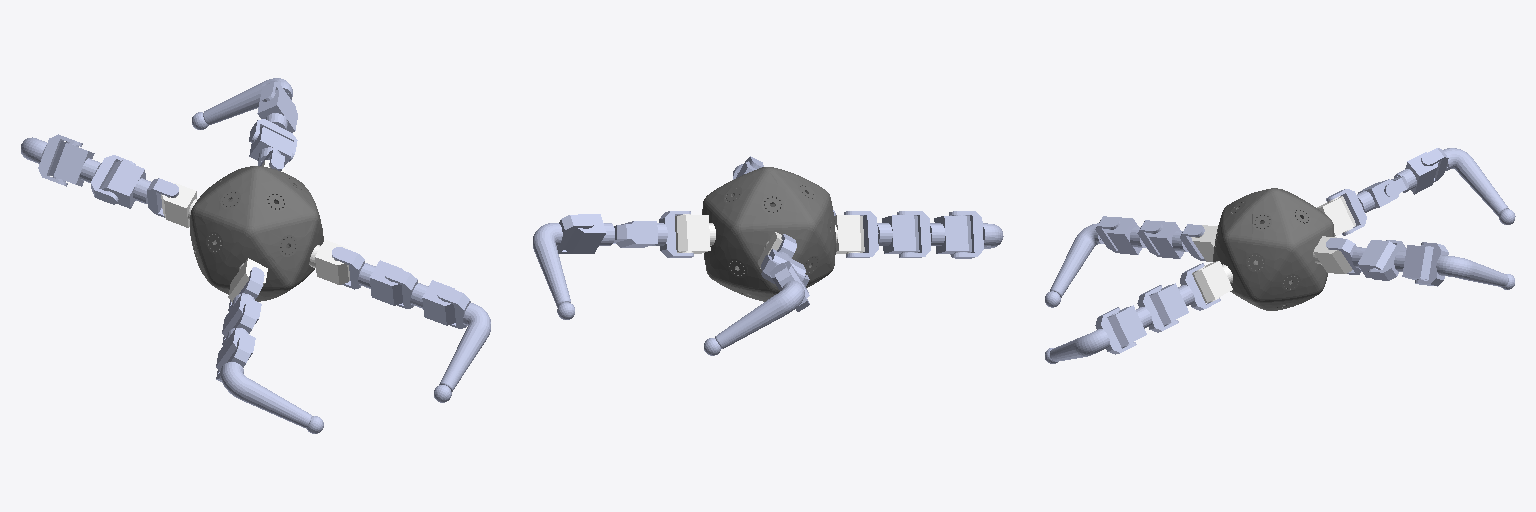
The robot description file, URDF, robot "mod_test":
<?xml version="1.0" encoding="utf-8"?>
<robot
  name="mod_test">
  <link
    name="base_link">
    <inertial>
      <origin
        xyz="-1.5226495220944E-06 1.5812928362389E-07 -5.05247252856584E-07"
        rpy="0 0 0" />
      <mass
        value="0.422806992949252" />
      <inertia
        ixx="0.00237499139253511"
        ixy="1.5717831530364E-08"
        ixz="1.49286265366169E-08"
        iyy="0.00237502154661776"
        iyz="-2.02154172619351E-08"
        izz="0.00237502595466009" />
    </inertial>
    <visual>
      <origin
        xyz="0 0 0"
        rpy="0 0 0" />
      <geometry>
        <mesh
          filename="package://meshes/base_link.STL" />
      </geometry>
      <material
        name="">
        <color
          rgba="0.498039215686275 0.498039215686275 0.498039215686275 1" />
      </material>
    </visual>
    <collision>
      <origin
        xyz="0 0 0"
        rpy="0 0 0" />
      <geometry>
        <mesh
          filename="package://meshes/base_link.STL" />
      </geometry>
    </collision>
  </link>
  <link
   name="70">
   <inertial>
      <origin
        xyz="0 0 0.028508"
        rpy="0 0 0" />
      <mass
        value="0.076173" />
      <inertia
        ixx="3.054E-05"
        ixy="-0.000000"
        ixz="-0.000000"
        iyy="2.1077E-05"
        iyz="-0.000000"
        izz="2.1165E-05" />
    </inertial>
    <visual>
      <origin
        xyz="0 0 0"
        rpy="0 0 0" />
      <geometry>
        <mesh
          filename="package://meshes/1.STL" />
      </geometry>
      <material
        name="">
        <color
          rgba="1 1 1 1" />
      </material>
    </visual>
    <collision>
      <origin
        xyz="0 0 0"
        rpy="0 0 0" />
      <geometry>
        <mesh
          filename="package://meshes/1.STL" />
      </geometry>
    </collision>
  </link>
  <joint
    name="body_70"
    type="fixed">
    <origin
        xyz="0.051620 0.071049 0.016769"
        rpy="-1.353788 0.513383 -0.520455" />
    <parent
      link="base_link" />
    <child
      link="70" />
    <axis
      xyz="0 0 0" />
  </joint>
  <link
    name="71">
    <inertial>
      <origin
        xyz="0.060018 -1.4108E-06 1.4108E-06"
        rpy="0 0 0" />
    <mass
        value="0.10689" />
      <inertia
        ixx="3.2684e-05"
        ixy="-2.5662e-09"
        ixz="2.5662e-09"
        iyy="8.4132e-05"
        iyz="-2.1275e-13"
        izz="8.4583e-05" />
    </inertial>
    <visual>
      <origin
        xyz="0 0 0"
        rpy="0 0 0" />
      <geometry>
        <mesh
          filename="package://meshes/module3.STL" />
      </geometry>
      <material
        name="">
        <color
          rgba="0.79216 0.81961 0.93333 1" />
      </material>
    </visual>
    <collision>
      <origin
        xyz="0 0 0"
        rpy="0 0 0" />
      <geometry>
        <mesh
          filename="package://meshes/module3.STL" />
      </geometry>
    </collision>
  </link>
  <joint
    name="70_71"
    type="revolute">
    <origin
      xyz="0 0 0.04"
      rpy="-1.558 -1.5708 -0.012835" />
    <parent
      link="70" />
    <child
      link="71" />
    <axis
      xyz="0 0 1" />
    <limit
      lower="-6.28"
      upper="6.28"
      effort="10"
      velocity="100" />
  </joint>
  <link
    name="72">
    <inertial>
      <origin
        xyz="0.060018 -1.4108E-06 1.4108E-06"
        rpy="0 0 0" />
    <mass
        value="0.10689" />
      <inertia
        ixx="3.2684e-05"
        ixy="-2.5662e-09"
        ixz="2.5662e-09"
        iyy="9.1229e-05"
        iyz="4.0975e-06"
        izz="7.7485e-05" />
    </inertial>
    <visual>
      <origin
        xyz="0 0 0"
        rpy="0 0 0" />
      <geometry>
        <mesh
          filename="package://meshes/module7.STL" />
      </geometry>
      <material
        name="">
        <color
          rgba="0.79216 0.81961 0.93333 1" />
      </material>
    </visual>
    <collision>
      <origin
        xyz="0 0 0"
        rpy="0 0 0" />
      <geometry>
        <mesh
          filename="package://meshes/module7.STL" />
      </geometry>
    </collision>
  </link>
  <joint
    name="71_72"
    type="revolute">
    <origin
      xyz="0.0816 0 0"
      rpy="1.570796 0 0" />
    <parent
      link="71" />
    <child
      link="72" />
    <axis
      xyz="0 0 1" />
    <limit
      lower="-6.28"
      upper="6.28"
      effort="10"
      velocity="100" />
  </joint>
  <link
    name="73">
    <inertial>
      <origin
        xyz="0.051733 -0.042281 -1.3878E-17"
        rpy="0 0 0" />
    <mass
        value="0.12059" />
      <inertia
        ixx="0.00025425"
        ixy="4.8319E-05"
        ixz="0"
        iyy="5.0194E-05"
        iyz="-3.3141E-21"
        izz="0.00027482" />
    </inertial>
    <visual>
      <origin
        xyz="0 0 0"
        rpy="0 0 0" />
      <geometry>
        <mesh
          filename="package://meshes/leg.STL" />
      </geometry>
      <material
        name="">
        <color
          rgba="0.79216 0.81961 0.93333 1" />
      </material>
    </visual>
    <collision>
      <origin
        xyz="0 0 0"
        rpy="0 0 0" />
      <geometry>
        <mesh
          filename="package://meshes/leg.STL" />
      </geometry>
    </collision>
  </link>
  <joint
    name="72_73"
    type="revolute">
    <origin
      xyz="0.0816 0 0"
      rpy="3.665191 0 0" />
    <parent
      link="72" />
    <child
      link="73" />
    <axis
      xyz="0 0 1" />
    <limit
      lower="-6.28"
      upper="6.28"
      effort="10"
      velocity="100" />
  </joint>
  <link
   name="100">
   <inertial>
      <origin
        xyz="0 0 0.028508"
        rpy="0 0 0" />
      <mass
        value="0.076173" />
      <inertia
        ixx="3.054E-05"
        ixy="0.000000"
        ixz="-0.000000"
        iyy="2.1077E-05"
        iyz="0.000021"
        izz="2.1165E-05" />
    </inertial>
    <visual>
      <origin
        xyz="0 0 0"
        rpy="0 0 0" />
      <geometry>
        <mesh
          filename="package://meshes/1.STL" />
      </geometry>
      <material
        name="">
        <color
          rgba="1 1 1 1" />
      </material>
    </visual>
    <collision>
      <origin
        xyz="0 0 0"
        rpy="0 0 0" />
      <geometry>
        <mesh
          filename="package://meshes/1.STL" />
      </geometry>
    </collision>
  </link>
  <joint
    name="body_100"
    type="fixed">
    <origin
        xyz="0.051620 -0.071049 -0.016769"
        rpy="1.787804 -0.513383 0.520455" />
    <parent
      link="base_link" />
    <child
      link="100" />
    <axis
      xyz="0 0 0" />
  </joint>
  <link
    name="101">
    <inertial>
      <origin
        xyz="0.060018 -1.4108E-06 1.4108E-06"
        rpy="0 0 0" />
    <mass
        value="0.10689" />
      <inertia
        ixx="3.2684e-05"
        ixy="-2.5662e-09"
        ixz="2.5662e-09"
        iyy="9.3595e-05"
        iyz="-2.1275e-13"
        izz="7.512e-05" />
    </inertial>
    <visual>
      <origin
        xyz="0 0 0"
        rpy="0 0 0" />
      <geometry>
        <mesh
          filename="package://meshes/module6.STL" />
      </geometry>
      <material
        name="">
        <color
          rgba="0.79216 0.81961 0.93333 1" />
      </material>
    </visual>
    <collision>
      <origin
        xyz="0 0 0"
        rpy="0 0 0" />
      <geometry>
        <mesh
          filename="package://meshes/module6.STL" />
      </geometry>
    </collision>
  </link>
  <joint
    name="100_101"
    type="revolute">
    <origin
      xyz="0 0 0.04"
      rpy="-1.558 -1.5708 -0.012835" />
    <parent
      link="100" />
    <child
      link="101" />
    <axis
      xyz="0 0 1" />
    <limit
      lower="-6.28"
      upper="6.28"
      effort="10"
      velocity="100" />
  </joint>
  <link
    name="102">
    <inertial>
      <origin
        xyz="0.060018 -1.4108E-06 1.4108E-06"
        rpy="0 0 0" />
    <mass
        value="0.10689" />
      <inertia
        ixx="3.2684e-05"
        ixy="-2.5662e-09"
        ixz="2.5662e-09"
        iyy="9.3595e-05"
        iyz="-2.1275e-13"
        izz="7.512e-05" />
    </inertial>
    <visual>
      <origin
        xyz="0 0 0"
        rpy="0 0 0" />
      <geometry>
        <mesh
          filename="package://meshes/module6.STL" />
      </geometry>
      <material
        name="">
        <color
          rgba="0.79216 0.81961 0.93333 1" />
      </material>
    </visual>
    <collision>
      <origin
        xyz="0 0 0"
        rpy="0 0 0" />
      <geometry>
        <mesh
          filename="package://meshes/module6.STL" />
      </geometry>
    </collision>
  </link>
  <joint
    name="101_102"
    type="revolute">
    <origin
      xyz="0.0816 0 0"
      rpy="3.141593 0 0" />
    <parent
      link="101" />
    <child
      link="102" />
    <axis
      xyz="0 0 1" />
    <limit
      lower="-6.28"
      upper="6.28"
      effort="10"
      velocity="100" />
  </joint>
  <link
    name="103">
    <inertial>
      <origin
        xyz="0.051733 -0.042281 -1.3878E-17"
        rpy="0 0 0" />
    <mass
        value="0.12059" />
      <inertia
        ixx="0.00025425"
        ixy="4.8319E-05"
        ixz="0"
        iyy="5.0194E-05"
        iyz="-3.3141E-21"
        izz="0.00027482" />
    </inertial>
    <visual>
      <origin
        xyz="0 0 0"
        rpy="0 0 0" />
      <geometry>
        <mesh
          filename="package://meshes/leg.STL" />
      </geometry>
      <material
        name="">
        <color
          rgba="0.79216 0.81961 0.93333 1" />
      </material>
    </visual>
    <collision>
      <origin
        xyz="0 0 0"
        rpy="0 0 0" />
      <geometry>
        <mesh
          filename="package://meshes/leg.STL" />
      </geometry>
    </collision>
  </link>
  <joint
    name="102_103"
    type="revolute">
    <origin
      xyz="0.0816 0 0"
      rpy="3.141593 0 0" />
    <parent
      link="102" />
    <child
      link="103" />
    <axis
      xyz="0 0 1" />
    <limit
      lower="-6.28"
      upper="6.28"
      effort="10"
      velocity="100" />
  </joint>
  <link
   name="140">
   <inertial>
      <origin
        xyz="0 0 0.028508"
        rpy="0 0 0" />
      <mass
        value="0.076173" />
      <inertia
        ixx="3.054E-05"
        ixy="0.000000"
        ixz="-0.000000"
        iyy="2.1077E-05"
        iyz="-0.000000"
        izz="2.1165E-05" />
    </inertial>
    <visual>
      <origin
        xyz="0 0 0"
        rpy="0 0 0" />
      <geometry>
        <mesh
          filename="package://meshes/1.STL" />
      </geometry>
      <material
        name="">
        <color
          rgba="1 1 1 1" />
      </material>
    </visual>
    <collision>
      <origin
        xyz="0 0 0"
        rpy="0 0 0" />
      <geometry>
        <mesh
          filename="package://meshes/1.STL" />
      </geometry>
    </collision>
  </link>
  <joint
    name="body_140"
    type="fixed">
    <origin
        xyz="-0.051620 -0.071049 -0.016769"
        rpy="-1.787804 -0.513383 2.621137" />
    <parent
      link="base_link" />
    <child
      link="140" />
    <axis
      xyz="0 0 0" />
  </joint>
  <link
    name="141">
    <inertial>
      <origin
        xyz="0.060018 -1.4108E-06 1.4108E-06"
        rpy="0 0 0" />
    <mass
        value="0.10689" />
      <inertia
        ixx="3.2684e-05"
        ixy="-2.5662e-09"
        ixz="2.5662e-09"
        iyy="9.3595e-05"
        iyz="-2.1275e-13"
        izz="7.512e-05" />
    </inertial>
    <visual>
      <origin
        xyz="0 0 0"
        rpy="0 0 0" />
      <geometry>
        <mesh
          filename="package://meshes/module6.STL" />
      </geometry>
      <material
        name="">
        <color
          rgba="0.79216 0.81961 0.93333 1" />
      </material>
    </visual>
    <collision>
      <origin
        xyz="0 0 0"
        rpy="0 0 0" />
      <geometry>
        <mesh
          filename="package://meshes/module6.STL" />
      </geometry>
    </collision>
  </link>
  <joint
    name="140_141"
    type="revolute">
    <origin
      xyz="0 0 0.04"
      rpy="-1.558 -1.5708 -0.012835" />
    <parent
      link="140" />
    <child
      link="141" />
    <axis
      xyz="0 0 1" />
    <limit
      lower="-6.28"
      upper="6.28"
      effort="10"
      velocity="100" />
  </joint>
  <link
    name="142">
    <inertial>
      <origin
        xyz="0.060018 -1.4108E-06 1.4108E-06"
        rpy="0 0 0" />
    <mass
        value="0.10689" />
      <inertia
        ixx="3.2684e-05"
        ixy="-2.5662e-09"
        ixz="2.5662e-09"
        iyy="9.3595e-05"
        iyz="-2.1275e-13"
        izz="7.512e-05" />
    </inertial>
    <visual>
      <origin
        xyz="0 0 0"
        rpy="0 0 0" />
      <geometry>
        <mesh
          filename="package://meshes/module6.STL" />
      </geometry>
      <material
        name="">
        <color
          rgba="0.79216 0.81961 0.93333 1" />
      </material>
    </visual>
    <collision>
      <origin
        xyz="0 0 0"
        rpy="0 0 0" />
      <geometry>
        <mesh
          filename="package://meshes/module6.STL" />
      </geometry>
    </collision>
  </link>
  <joint
    name="141_142"
    type="revolute">
    <origin
      xyz="0.0816 0 0"
      rpy="3.141593 0 0" />
    <parent
      link="141" />
    <child
      link="142" />
    <axis
      xyz="0 0 1" />
    <limit
      lower="-6.28"
      upper="6.28"
      effort="10"
      velocity="100" />
  </joint>
  <link
    name="143">
    <inertial>
      <origin
        xyz="0.051733 -0.042281 -1.3878E-17"
        rpy="0 0 0" />
    <mass
        value="0.12059" />
      <inertia
        ixx="0.00025425"
        ixy="4.8319E-05"
        ixz="0"
        iyy="5.0194E-05"
        iyz="-3.3141E-21"
        izz="0.00027482" />
    </inertial>
    <visual>
      <origin
        xyz="0 0 0"
        rpy="0 0 0" />
      <geometry>
        <mesh
          filename="package://meshes/leg.STL" />
      </geometry>
      <material
        name="">
        <color
          rgba="0.79216 0.81961 0.93333 1" />
      </material>
    </visual>
    <collision>
      <origin
        xyz="0 0 0"
        rpy="0 0 0" />
      <geometry>
        <mesh
          filename="package://meshes/leg.STL" />
      </geometry>
    </collision>
  </link>
  <joint
    name="142_143"
    type="revolute">
    <origin
      xyz="0.0816 0 0"
      rpy="3.141593 0 0" />
    <parent
      link="142" />
    <child
      link="143" />
    <axis
      xyz="0 0 1" />
    <limit
      lower="-6.28"
      upper="6.28"
      effort="10"
      velocity="100" />
  </joint>
  <link
   name="80">
   <inertial>
      <origin
        xyz="0 0 0.028508"
        rpy="0 0 0" />
      <mass
        value="0.076173" />
      <inertia
        ixx="3.054E-05"
        ixy="0.000000"
        ixz="-0.000000"
        iyy="2.1077E-05"
        iyz="-0.000000"
        izz="2.1165E-05" />
    </inertial>
    <visual>
      <origin
        xyz="0 0 0"
        rpy="0 0 0" />
      <geometry>
        <mesh
          filename="package://meshes/1.STL" />
      </geometry>
      <material
        name="">
        <color
          rgba="1 1 1 1" />
      </material>
    </visual>
    <collision>
      <origin
        xyz="0 0 0"
        rpy="0 0 0" />
      <geometry>
        <mesh
          filename="package://meshes/1.STL" />
      </geometry>
    </collision>
  </link>
  <joint
    name="body_80"
    type="fixed">
    <origin
        xyz="-0.051620 0.071049 0.016769"
        rpy="1.353788 0.513383 -2.621137" />
    <parent
      link="base_link" />
    <child
      link="80" />
    <axis
      xyz="0 0 0" />
  </joint>
  <link
    name="81">
    <inertial>
      <origin
        xyz="0.060018 -1.4108E-06 1.4108E-06"
        rpy="0 0 0" />
    <mass
        value="0.10689" />
      <inertia
        ixx="3.2684e-05"
        ixy="-2.5662e-09"
        ixz="2.5662e-09"
        iyy="8.4132e-05"
        iyz="-2.1275e-13"
        izz="8.4583e-05" />
    </inertial>
    <visual>
      <origin
        xyz="0 0 0"
        rpy="0 0 0" />
      <geometry>
        <mesh
          filename="package://meshes/module9.STL" />
      </geometry>
      <material
        name="">
        <color
          rgba="0.79216 0.81961 0.93333 1" />
      </material>
    </visual>
    <collision>
      <origin
        xyz="0 0 0"
        rpy="0 0 0" />
      <geometry>
        <mesh
          filename="package://meshes/module9.STL" />
      </geometry>
    </collision>
  </link>
  <joint
    name="80_81"
    type="revolute">
    <origin
      xyz="0 0 0.04"
      rpy="-1.558 -1.5708 -0.012835" />
    <parent
      link="80" />
    <child
      link="81" />
    <axis
      xyz="0 0 1" />
    <limit
      lower="-6.28"
      upper="6.28"
      effort="10"
      velocity="100" />
  </joint>
  <link
    name="82">
    <inertial>
      <origin
        xyz="0.060018 -1.4108E-06 1.4108E-06"
        rpy="0 0 0" />
    <mass
        value="0.10689" />
      <inertia
        ixx="3.2684e-05"
        ixy="-2.5662e-09"
        ixz="2.5662e-09"
        iyy="9.1229e-05"
        iyz="-4.0975e-06"
        izz="7.7485e-05" />
    </inertial>
    <visual>
      <origin
        xyz="0 0 0"
        rpy="0 0 0" />
      <geometry>
        <mesh
          filename="package://meshes/module5.STL" />
      </geometry>
      <material
        name="">
        <color
          rgba="0.79216 0.81961 0.93333 1" />
      </material>
    </visual>
    <collision>
      <origin
        xyz="0 0 0"
        rpy="0 0 0" />
      <geometry>
        <mesh
          filename="package://meshes/module5.STL" />
      </geometry>
    </collision>
  </link>
  <joint
    name="81_82"
    type="revolute">
    <origin
      xyz="0.0816 0 0"
      rpy="4.712389 0 0" />
    <parent
      link="81" />
    <child
      link="82" />
    <axis
      xyz="0 0 1" />
    <limit
      lower="-6.28"
      upper="6.28"
      effort="10"
      velocity="100" />
  </joint>
  <link
    name="83">
    <inertial>
      <origin
        xyz="0.051733 -0.042281 -1.3878E-17"
        rpy="0 0 0" />
    <mass
        value="0.12059" />
      <inertia
        ixx="0.00025425"
        ixy="4.8319E-05"
        ixz="0"
        iyy="5.0194E-05"
        iyz="-3.3141E-21"
        izz="0.00027482" />
    </inertial>
    <visual>
      <origin
        xyz="0 0 0"
        rpy="0 0 0" />
      <geometry>
        <mesh
          filename="package://meshes/leg.STL" />
      </geometry>
      <material
        name="">
        <color
          rgba="0.79216 0.81961 0.93333 1" />
      </material>
    </visual>
    <collision>
      <origin
        xyz="0 0 0"
        rpy="0 0 0" />
      <geometry>
        <mesh
          filename="package://meshes/leg.STL" />
      </geometry>
    </collision>
  </link>
  <joint
    name="82_83"
    type="revolute">
    <origin
      xyz="0.0816 0 0"
      rpy="2.617994 0 0" />
    <parent
      link="82" />
    <child
      link="83" />
    <axis
      xyz="0 0 1" />
    <limit
      lower="-6.28"
      upper="6.28"
      effort="10"
      velocity="100" />
  </joint>
  <link
    name = "ball_1">
    <inertial>
    <origin
        xyz="0 0 0"
        rpy="0 0 0" />
    <mass
        value="0" />
      <inertia
        ixx="0"
        ixy="0"
        ixz="0"
        iyy="0"
        iyz="0"
        izz="0" />
    </inertial>    <visual>
      <origin
        xyz="0 0 0"
        rpy="0 0 0" />
     <geometry>
        <sphere radius = "0.01"/>
      </geometry>
      <material
        name="green">
        <color
          rgba="0.22 1 0.4 1" />
      </material>
    </visual>
  </link>
  <joint
  name="73_ball1"
  type="fixed">
    <origin
      xyz="0.0612 -0.13431 0"
      rpy="0 0 0" />
    <parent
      link="73" />
    <child
      link="ball_1" />
    <axis
      xyz="0 0 0" />
  </joint>
  <link
    name = "ball_2">
    <inertial>
    <origin
        xyz="0 0 0"
        rpy="0 0 0" />
    <mass
        value="0" />
      <inertia
        ixx="0"
        ixy="0"
        ixz="0"
        iyy="0"
        iyz="0"
        izz="0" />
    </inertial>    <visual>
      <origin
        xyz="0 0 0"
        rpy="0 0 0" />
      <geometry>
        <sphere radius = "0.01"/>
      </geometry>
      <material
        name="blue">
        <color
          rgba="0.16 0.52 0.8 1" />
      </material>
    </visual>
  </link>
  <joint
  name="103_ball2"
  type="fixed">
    <origin
      xyz="0.0612 -0.13431 0"
      rpy="0 0 0" />
    <parent
      link="103" />
    <child
      link="ball_2" />
    <axis
      xyz="0 0 0" />
  </joint>
  <link
    name = "ball_3">
    <inertial>
    <origin
        xyz="0 0 0"
        rpy="0 0 0" />
    <mass
        value="0" />
      <inertia
        ixx="0"
        ixy="0"
        ixz="0"
        iyy="0"
        iyz="0"
        izz="0" />
    </inertial>    <visual>
      <origin
        xyz="0 0 0"
        rpy="0 0 0" />
     <geometry>
        <sphere radius = "0.01"/>
      </geometry>
      <material
        name="blue">
        <color
          rgba="0.16 0.52 0.8 1" />
      </material>
    </visual>
  </link>
  <joint
  name="143_ball3"
  type="fixed">
    <origin
      xyz="0.0612 -0.13431 0"
      rpy="0 0 0" />
    <parent
      link="143" />
    <child
      link="ball_3" />
    <axis
      xyz="0 0 0" />
  </joint>
  <link
    name = "ball_4">
    <inertial>
    <origin
        xyz="0 0 0"
        rpy="0 0 0" />
    <mass
        value="0" />
      <inertia
        ixx="0"
        ixy="0"
        ixz="0"
        iyy="0"
        iyz="0"
        izz="0" />
    </inertial>    <visual>
      <origin
        xyz="0 0 0"
        rpy="0 0 0" />
      <geometry>
        <sphere radius = "0.01"/>
      </geometry>
      <material
        name="yellow">
        <color
          rgba="1 1 0 1" />
      </material>
    </visual>
  </link>
  <joint
  name="83_ball4"
  type="fixed">
    <origin
      xyz="0.0612 -0.13431 0"
      rpy="0 0 0" />
    <parent
      link="83" />
    <child
      link="ball_4" />
    <axis
      xyz="0 0 0" />
  </joint>
</robot>

--- What the picture shows (computed from the rendered views, not written in the file) ---
Views: 3 orthographic renders of the robot side by side, from view 1: azimuth 30°, elevation 25°; view 2: azimuth 150°, elevation 25°; view 3: azimuth 270°, elevation 25°.
Robot: mod_test — 21 links, 20 joints (12 revolute, 8 fixed); root link base_link; default pose: every joint at zero.
Visible links, largest first — view 1: base_link, 143, 103, 82, 81, 73, 101, 102, 72, 71, 83, 100 (+4 smaller); view 2: base_link, 83, 73, 141, 142, 72, 71, 70, 143, 140, 81, 82; view 3: base_link, 83, 143, 73, 101, 102, 103, 72, 71, 141, 142, 81 (+5 smaller).
Link boxes in pixels (x1,y1,x2,y2): base_link: (190, 166, 323, 301); 143: (216, 336, 323, 433); 103: (434, 286, 490, 402); 82: (49, 141, 135, 204); 81: (101, 160, 178, 217); 73: (192, 78, 297, 129); 101: (332, 247, 402, 305); 102: (385, 267, 455, 325); 72: (249, 89, 297, 161); 71: (249, 126, 293, 170); 83: (21, 134, 82, 186); 100: (309, 240, 349, 284); base_link: (702, 167, 835, 301); 83: (704, 263, 809, 355); 73: (533, 215, 594, 319); 141: (844, 211, 919, 257); 142: (897, 211, 971, 257); 72: (564, 214, 648, 253); 71: (616, 211, 693, 257); 70: (675, 214, 715, 253); 143: (949, 211, 1003, 258); 140: (834, 215, 864, 253); 81: (761, 234, 805, 283); 82: (761, 255, 809, 298); base_link: (1213, 188, 1333, 310); 83: (1421, 148, 1515, 224); 143: (1045, 216, 1120, 307); 73: (1415, 242, 1514, 289); 101: (1149, 263, 1220, 325); 102: (1107, 285, 1178, 347); 103: (1045, 307, 1136, 363); 72: (1368, 240, 1433, 280); 71: (1326, 238, 1395, 277); 141: (1147, 221, 1205, 260); 142: (1105, 217, 1162, 256); 81: (1326, 179, 1399, 235).
Size in the robot's own frame: 0.426 by 0.7243 by 0.2473 metres.
Meshes: 8 distinct files referenced, 17 mesh visuals loaded (8 binary STL).